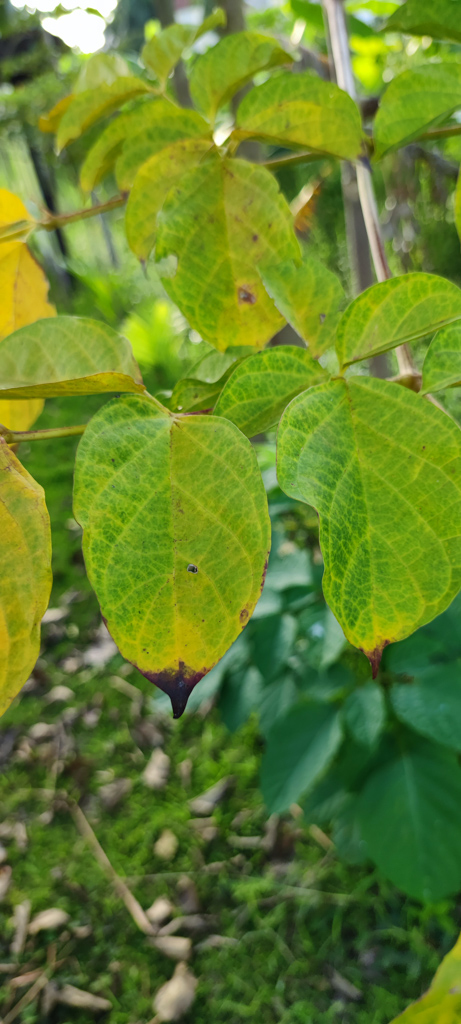Pepper yellow leaf: (181, 168, 295, 354), (3, 445, 60, 730), (2, 183, 57, 442), (117, 609, 229, 685)
